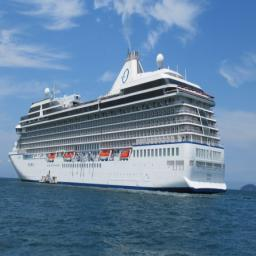cruises: (9, 49, 230, 197)
